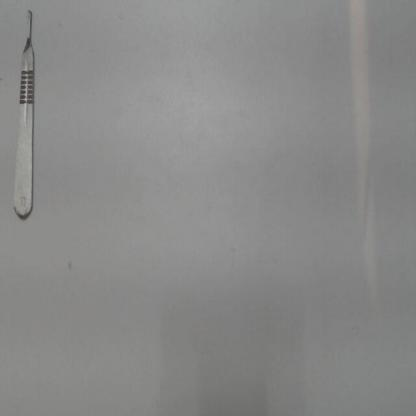No.3 BP Handle: (10, 3, 40, 228)
